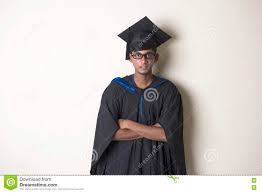Indian_Male: (129, 42, 157, 76)
